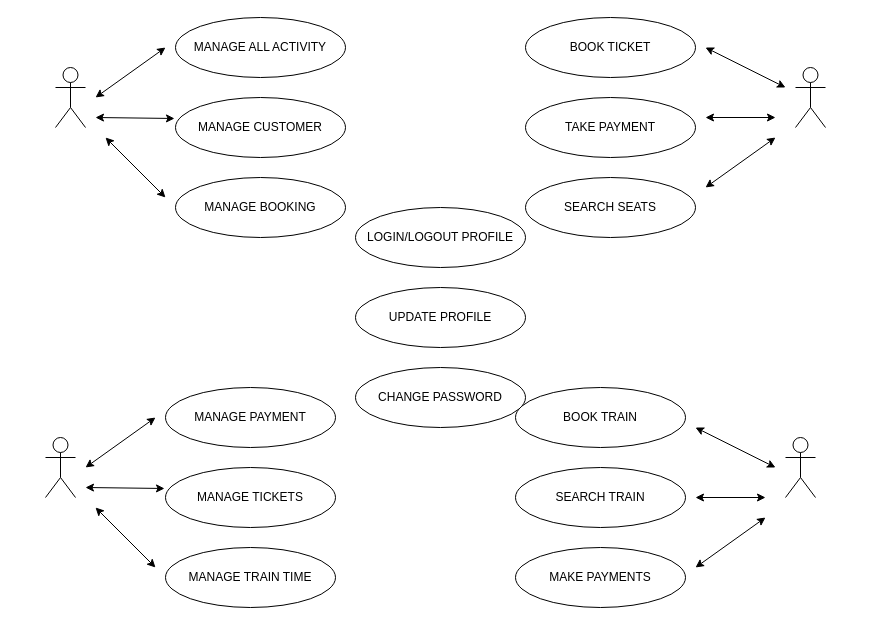
Image size: 870x625. Some labels were removed from this diagram. Here are the shapes that lost their labels. From the top down, the centre of each, then its label:
point 70,97: SUPER ADMIN
point 810,97: TICKET AGENT
point 60,467: SYSTEM USER
point 800,467: PASSENGER
